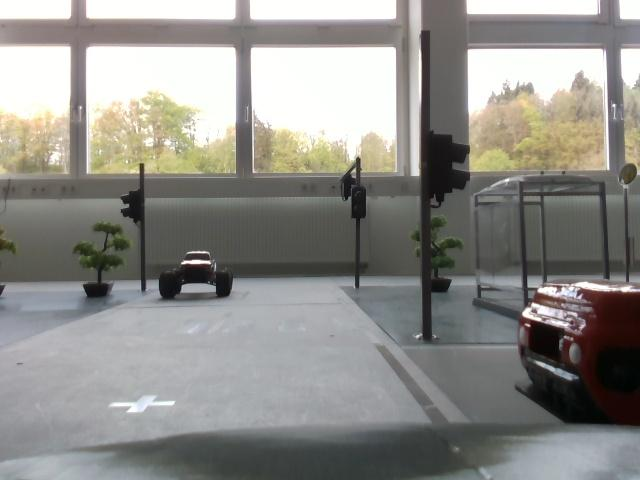car: (512, 278, 640, 428), (153, 240, 245, 306)
potted plant: (410, 216, 468, 303), (77, 219, 133, 305)
traffic light: (414, 126, 475, 201), (342, 178, 378, 223), (119, 186, 155, 226)
